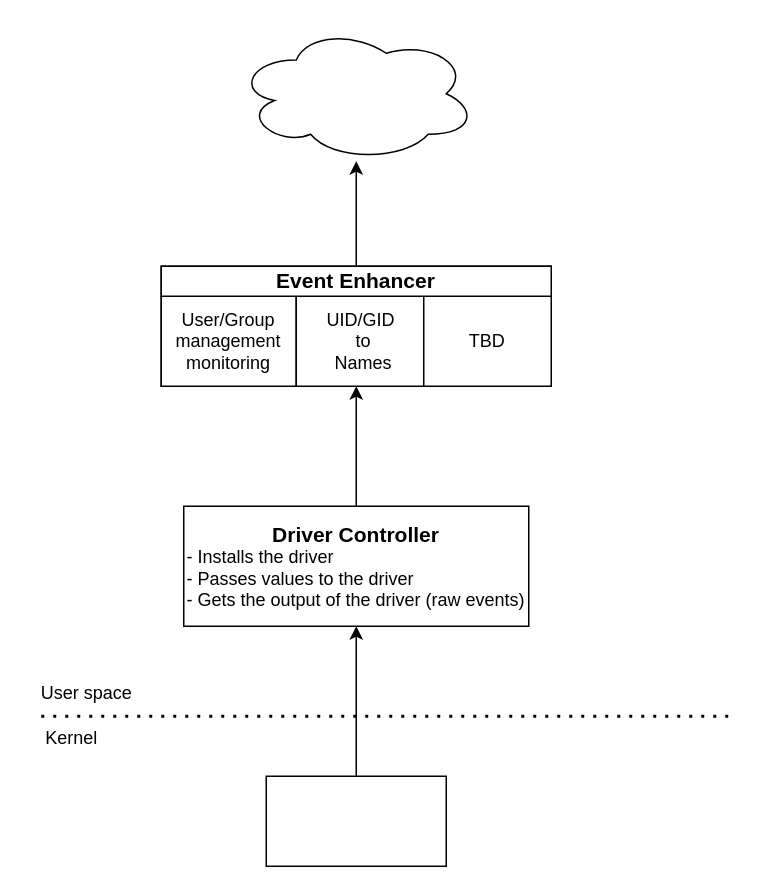
Image size: 759x893. Some labels were removed from this diagram. Each missing label, with the centre of its shape:
Agent/Other: (x=355, y=93)
Driver (Ebpf/Kernel Module): (x=355, y=820)
